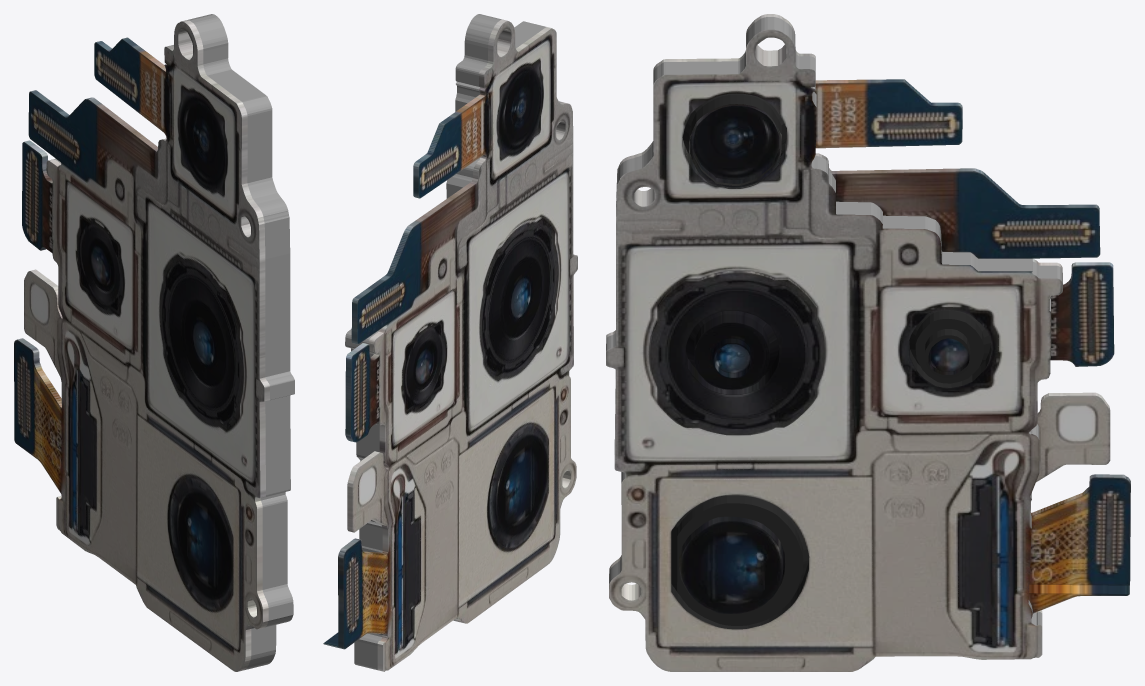
The model's file is SCameraChip.glb.
3 renders of one model, left to right at view 1: azimuth 30°, elevation 25°; view 2: azimuth 150°, elevation 25°; view 3: azimuth 270°, elevation 25°, orthographic. The views are drawn at different scales.
Parts seen in each view (by area): view 1: camera.001; view 2: camera.001; view 3: camera.001, wide2x, 5xzoom, UltraWide, 3xZoom.
Boxes of the visible parts, x1,y1,x2,y2 form: camera.001: (14,14,294,671); camera.001: (323,14,577,671); camera.001: (606,14,1130,671); wide2x: (648,272,825,435); 5xzoom: (677,495,803,625); UltraWide: (689,94,781,188); 3xZoom: (909,310,991,387).
Size of the model in its own units: 0.1644 by 1.93 by 1.43.
3 materials, 1 textured.
